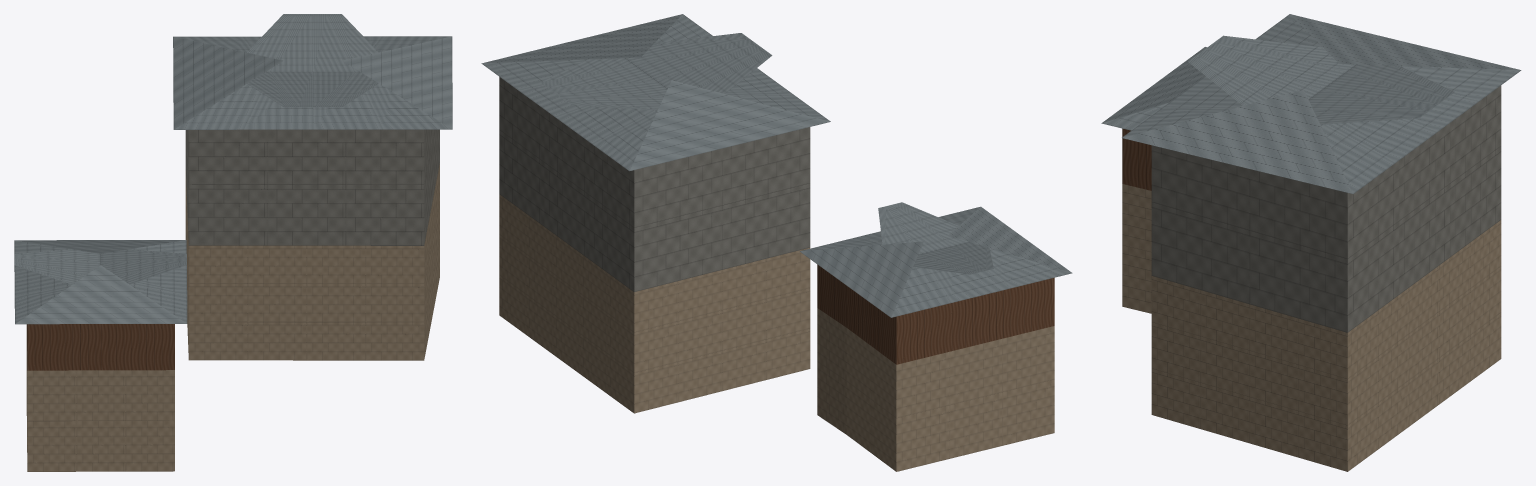
File: bld_c10_29_402.gltf
3 views of the same model, side by side, from view 1: azimuth 30°, elevation 25°; view 2: azimuth 150°, elevation 25°; view 3: azimuth 270°, elevation 25° (orthographic). The views are drawn at different scales.
Parts seen in each view (by area): view 1: bld_c10_29_402; view 2: bld_c10_29_402; view 3: bld_c10_29_402.
Part boxes in pixels (box(x1,y1,x2,y2)): bld_c10_29_402: box(14, 14, 452, 471); bld_c10_29_402: box(481, 14, 1072, 471); bld_c10_29_402: box(1101, 14, 1521, 471).
Size of the model in its own units: 23.18 by 13.2 by 13.97.
4 materials, 4 textured.
